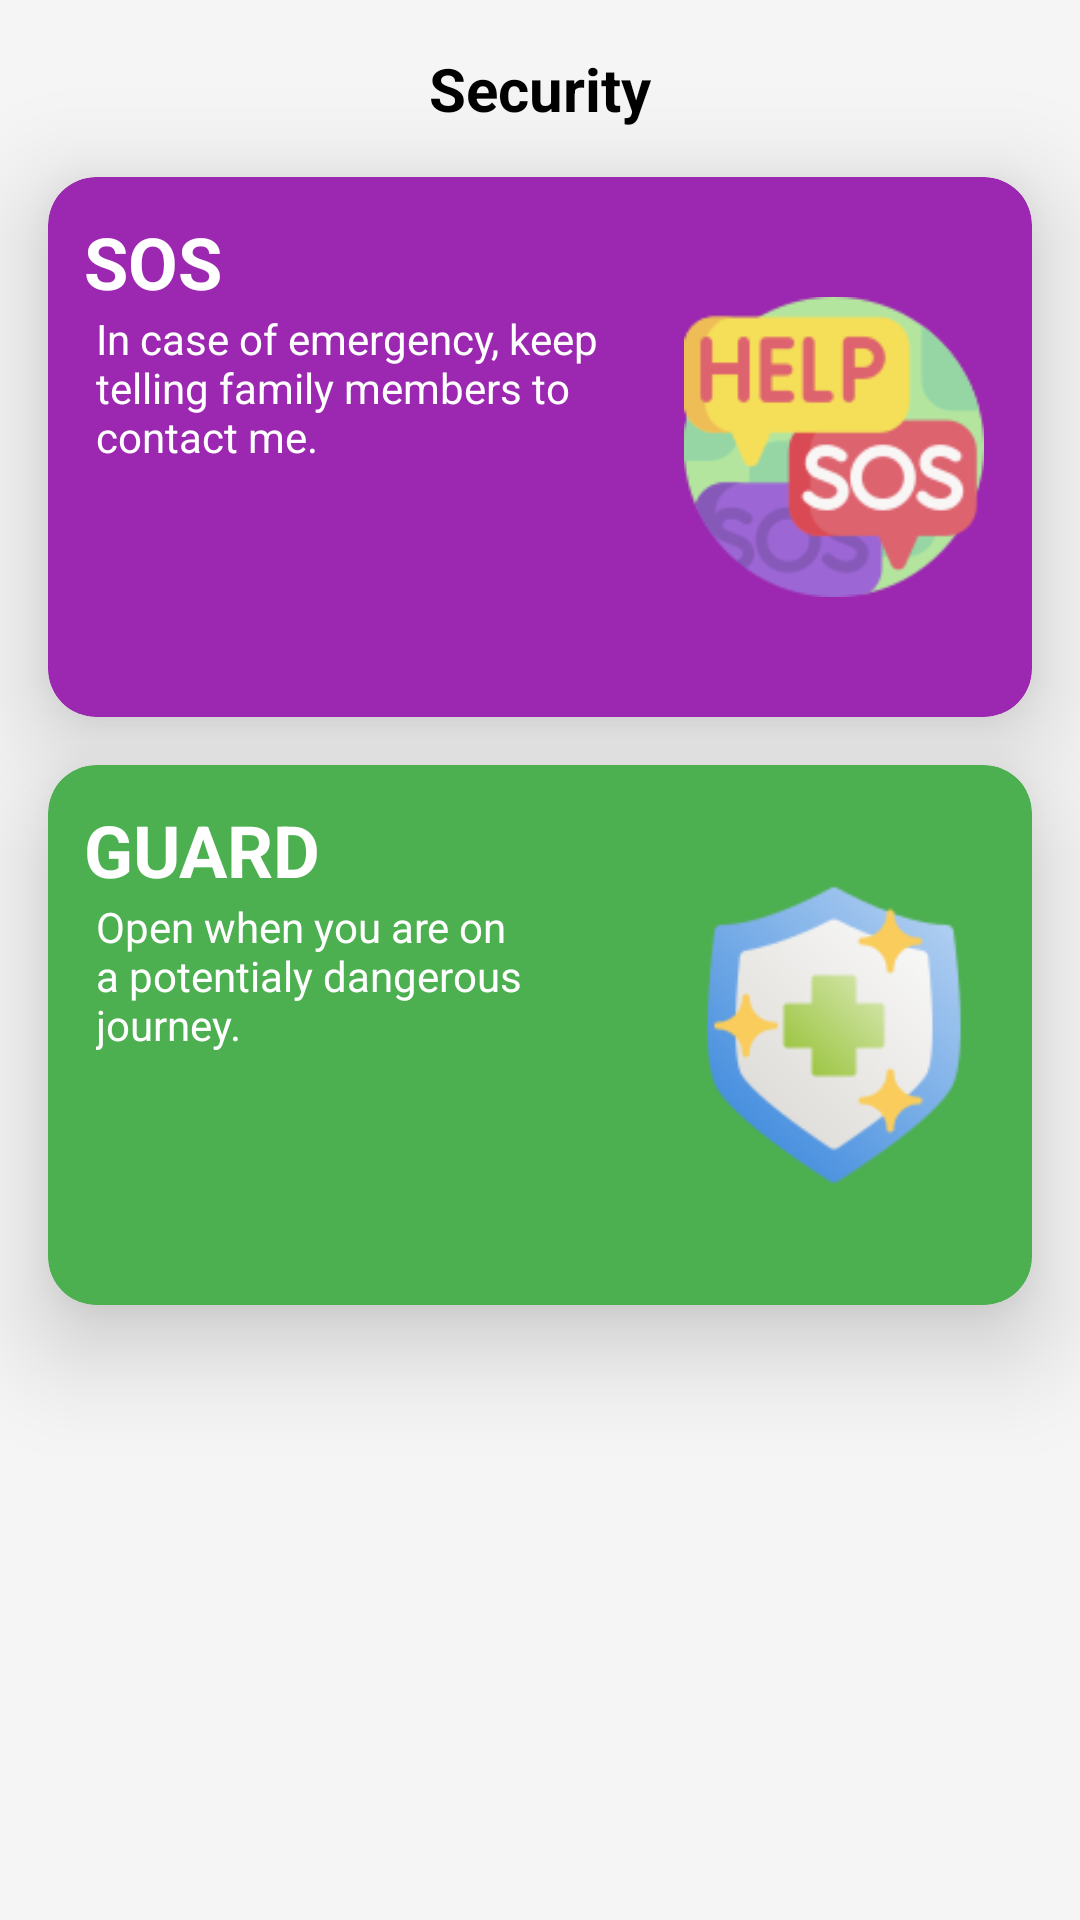

Locate icon controls on the screen. Image size 1080w x 1920h, boxes as (x1, y1, x2, y2).
guard: (707, 887, 961, 1183)
